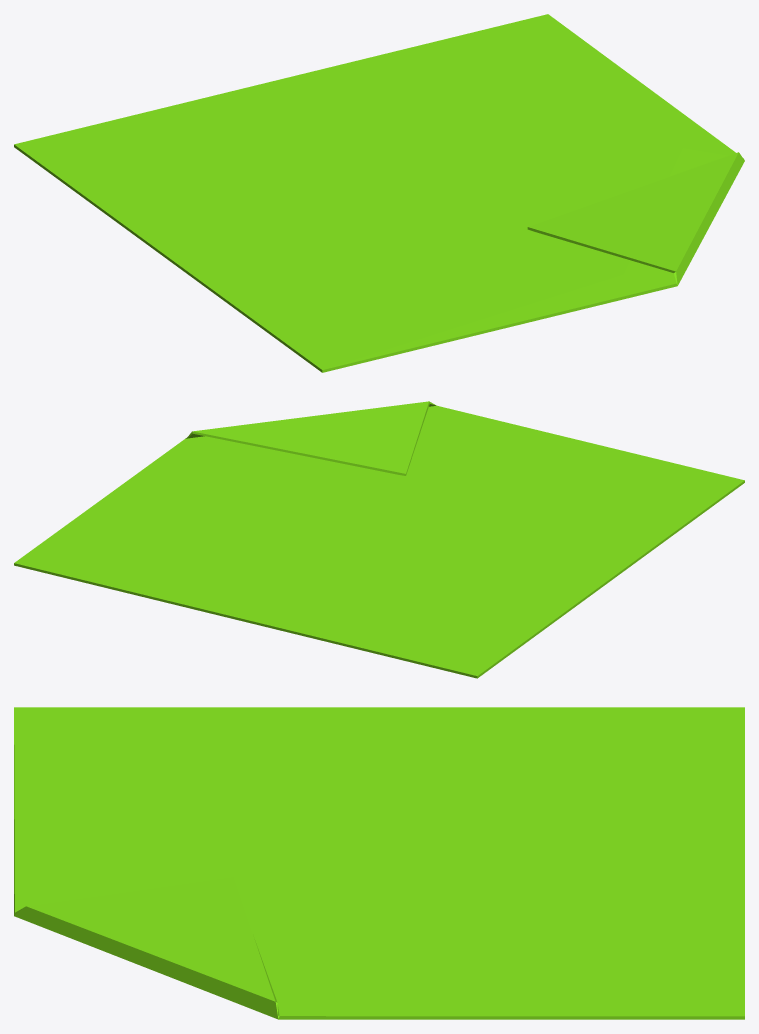
Rendered from StickyNote.fbx.
The picture shows the model from 3 angles, top to bottom: view 1: azimuth 30°, elevation 25°; view 2: azimuth 150°, elevation 25°; view 3: azimuth 270°, elevation 25°; orthographic projection. The views are drawn at different scales.
Parts seen in each view (by area): view 1: Plane; view 2: Plane; view 3: Plane.
Part boxes in pixels (left/top/right/bottom): Plane: left=14, top=14, right=744, bottom=372; Plane: left=14, top=401, right=744, bottom=678; Plane: left=14, top=707, right=744, bottom=1019.
Size of the model in its own units: 204 by 4.18 by 204.
